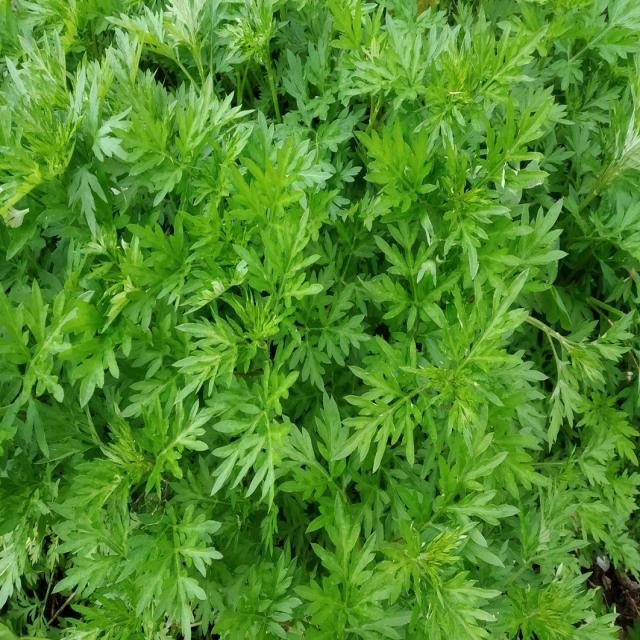ambrosia: (363, 307, 604, 609), (25, 64, 308, 312), (6, 371, 279, 623), (396, 21, 588, 243)
